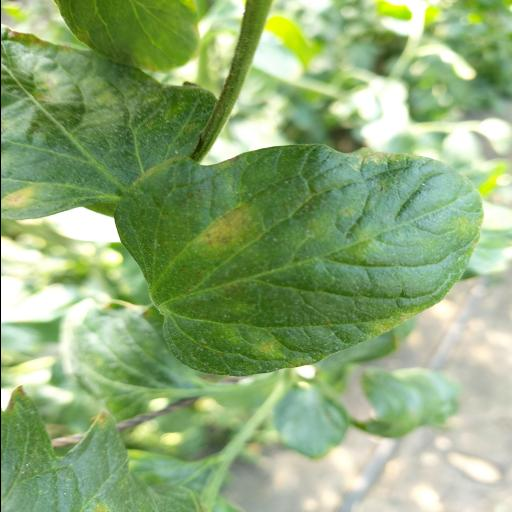disease_tomato: (114, 144, 485, 378), (0, 23, 216, 221)
